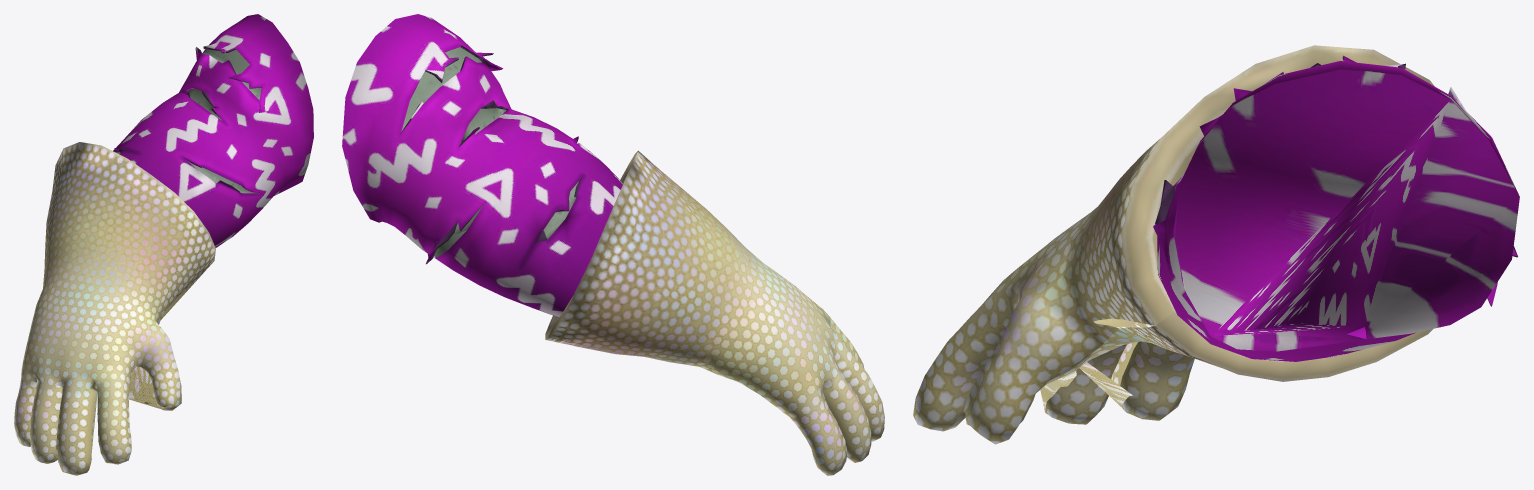
The model's file is right_arm-1_zombie_party_brainz.blend.obj.
3 views of the same model, side by side, from view 1: azimuth 30°, elevation 25°; view 2: azimuth 150°, elevation 25°; view 3: azimuth 270°, elevation 25° (orthographic). The views are drawn at different scales.
Parts seen in each view (by area): view 1: right_arm-1_zombie_party_brainz.blend_Costume_NewWave_Clothing_M; view 2: right_arm-1_zombie_party_brainz.blend_Costume_NewWave_Clothing_M; view 3: right_arm-1_zombie_party_brainz.blend_Costume_NewWave_Clothing_M.
Boxes of the visible parts, left/top/right/bottom form: right_arm-1_zombie_party_brainz.blend_Costume_NewWave_Clothing_M: left=14, top=14, right=313, bottom=475; right_arm-1_zombie_party_brainz.blend_Costume_NewWave_Clothing_M: left=342, top=14, right=884, bottom=475; right_arm-1_zombie_party_brainz.blend_Costume_NewWave_Clothing_M: left=913, top=45, right=1519, bottom=444.
Size of the model in its own units: 1.1 by 1.11 by 0.9509.
Materials: 2 (2 with a texture image).
